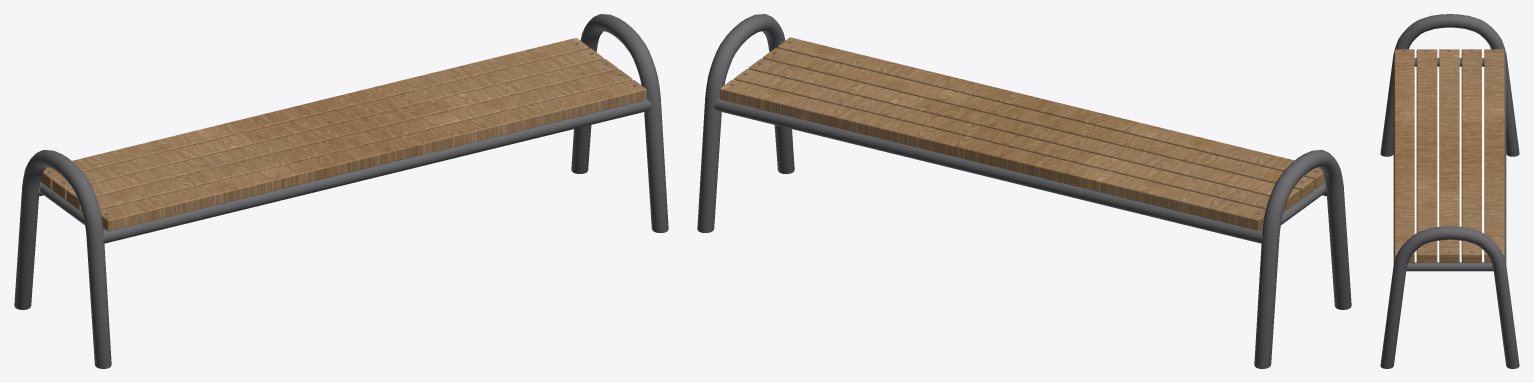
Rendered from bench.glb.
3 renders of one model, left to right at view 1: azimuth 30°, elevation 25°; view 2: azimuth 150°, elevation 25°; view 3: azimuth 270°, elevation 25°, orthographic. The views are drawn at different scales.
Parts seen in each view (by area): view 1: Bench, Structure; view 2: Bench, Structure; view 3: Bench, Structure.
Boxes of the visible parts, x1,y1,x2,y2 form: Bench: (40,38,646,231); Structure: (14,14,668,368); Bench: (720,37,1325,230); Structure: (697,14,1351,368); Bench: (1394,49,1504,262); Structure: (1380,14,1519,368).
Bounding box in the file's own units: 1.7 × 0.508 × 0.4582.
Materials: 2 (1 with a texture image).
